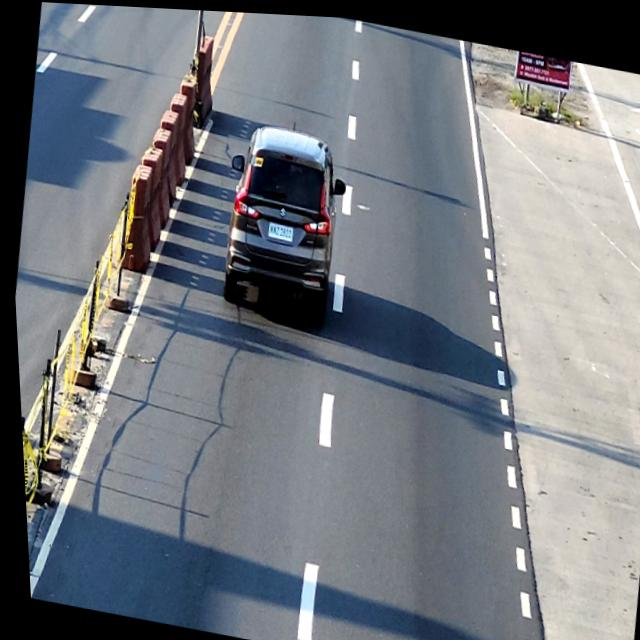Car: (208, 115, 356, 326)
License-Plate: (264, 219, 291, 239)
